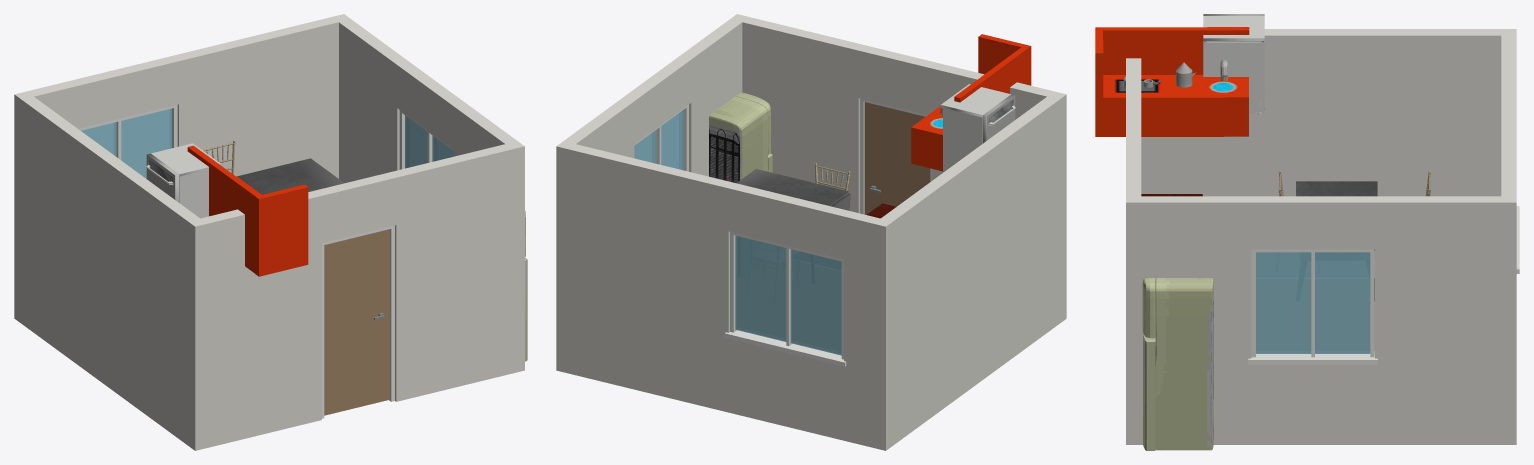
The model's file is layoutgpt.glb.
3 views of the same model, side by side, from view 1: azimuth 30°, elevation 25°; view 2: azimuth 150°, elevation 25°; view 3: azimuth 270°, elevation 25° (orthographic). The views are drawn at different scales.
Parts seen in each view (by area): view 1: wall|scenesmith_058__R00|0, wall|scenesmith_058__R00|2, wall|scenesmith_058__R00|1, wall|scenesmith_058__R00|3, wall|scenesmith_058__R00|0 Door 0 | wood leaf, scenesmith_058__R00_3, furniture_group, wall|scenesmith_058__R00|1 Window 0 | glazing, raw_model, wall|scenesmith_058__R00|0 Door 0 | jamb, wall|scenesmith_058__R00|3 Window 0 | glazing, wall|scenesmith_058__R00|1 Window 0 | jamb (+1 smaller); view 2: wall|scenesmith_058__R00|1, wall|scenesmith_058__R00|2, wall|scenesmith_058__R00|0, wall|scenesmith_058__R00|3, wall|scenesmith_058__R00|1 Window 0 | glazing, wall|scenesmith_058__R00|0 Door 0 | wood leaf, scenesmith_058__R00_5, scenesmith_058__R00_3, furniture_group, wall|scenesmith_058__R00|1 Window 0 | jamb, raw_model, wall|scenesmith_058__R00|3 Window 0 | glazing (+2 smaller); view 3: wall|scenesmith_058__R00|3, wall|scenesmith_058__R00|2, scenesmith_058__R00_3, scenesmith_058__R00_5, wall|scenesmith_058__R00|3 Window 0 | glazing, furniture_group, wall|scenesmith_058__R00|3 Window 0 | jamb, wall|scenesmith_058__R00|1, wall|scenesmith_058__R00|0, raw_model.
Boxes of the visible parts, x1,y1,x2,y2 form: wall|scenesmith_058__R00|0: [188, 141, 524, 450]; wall|scenesmith_058__R00|2: [15, 91, 199, 450]; wall|scenesmith_058__R00|1: [14, 17, 338, 323]; wall|scenesmith_058__R00|3: [332, 14, 516, 182]; wall|scenesmith_058__R00|0 Door 0 | wood leaf: [324, 229, 389, 415]; scenesmith_058__R00_3: [187, 145, 308, 276]; furniture_group: [146, 143, 221, 218]; wall|scenesmith_058__R00|1 Window 0 | glazing: [81, 108, 171, 178]; raw_model: [237, 158, 344, 194]; wall|scenesmith_058__R00|0 Door 0 | jamb: [322, 225, 394, 418]; wall|scenesmith_058__R00|3 Window 0 | glazing: [405, 115, 454, 168]; wall|scenesmith_058__R00|1 Window 0 | jamb: [78, 104, 177, 159]; wall|scenesmith_058__R00|1: [568, 144, 892, 450]; wall|scenesmith_058__R00|2: [873, 95, 1066, 450]; wall|scenesmith_058__R00|0: [730, 14, 1066, 213]; wall|scenesmith_058__R00|3: [556, 19, 742, 373]; wall|scenesmith_058__R00|1 Window 0 | glazing: [735, 235, 841, 355]; wall|scenesmith_058__R00|0 Door 0 | wood leaf: [864, 102, 930, 214]; scenesmith_058__R00_5: [709, 92, 772, 183]; scenesmith_058__R00_3: [911, 34, 1031, 171]; furniture_group: [940, 84, 1015, 171]; wall|scenesmith_058__R00|1 Window 0 | jamb: [724, 232, 846, 366]; raw_model: [737, 169, 850, 210]; wall|scenesmith_058__R00|3 Window 0 | glazing: [634, 110, 683, 170]; wall|scenesmith_058__R00|3: [1126, 196, 1516, 444]; wall|scenesmith_058__R00|2: [1141, 29, 1516, 277]; scenesmith_058__R00_3: [1095, 27, 1249, 136]; scenesmith_058__R00_5: [1142, 278, 1213, 450]; wall|scenesmith_058__R00|3 Window 0 | glazing: [1256, 252, 1370, 353]; furniture_group: [1203, 14, 1264, 114]; wall|scenesmith_058__R00|3 Window 0 | jamb: [1248, 249, 1377, 364]; wall|scenesmith_058__R00|1: [1501, 35, 1516, 196]; wall|scenesmith_058__R00|0: [1126, 58, 1141, 202]; raw_model: [1296, 181, 1377, 300].
Size of the model in its own units: 4.15 by 2.91 by 4.13.
16 materials, 9 textured.
